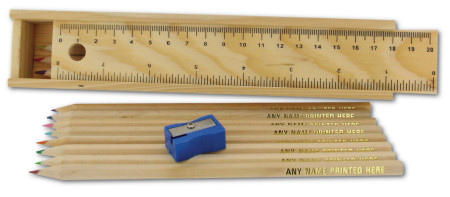pen_tip: (23, 165, 71, 186)
